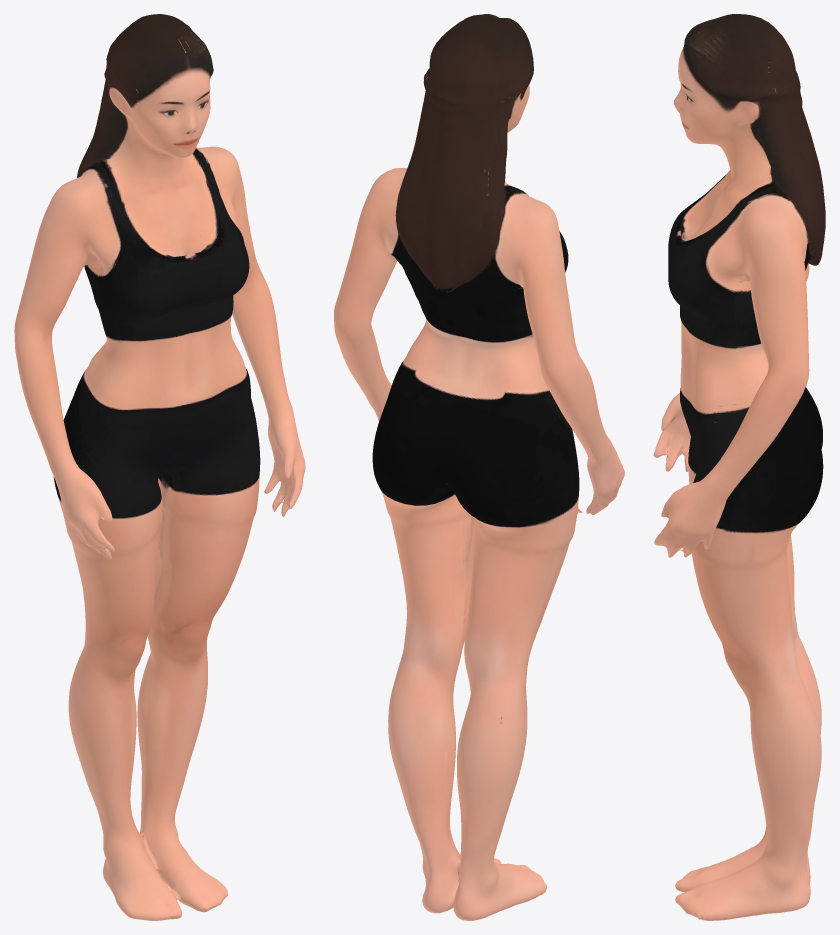
Rendered from female-avatar.optimized.glb.
The picture shows the model from 3 angles, left to right: view 1: azimuth 30°, elevation 25°; view 2: azimuth 150°, elevation 25°; view 3: azimuth 270°, elevation 25°; orthographic projection.
Parts seen in each view (by area): view 1: Mesh0; view 2: Mesh0; view 3: Mesh0.
Part boxes in pixels (<box>): Mesh0: <box>14,14,305,920</box>; Mesh0: <box>334,14,624,920</box>; Mesh0: <box>653,14,825,920</box>.
Size of the model in its own units: 0.5745 by 1.91 by 0.3396.
1 material, 1 textured.
